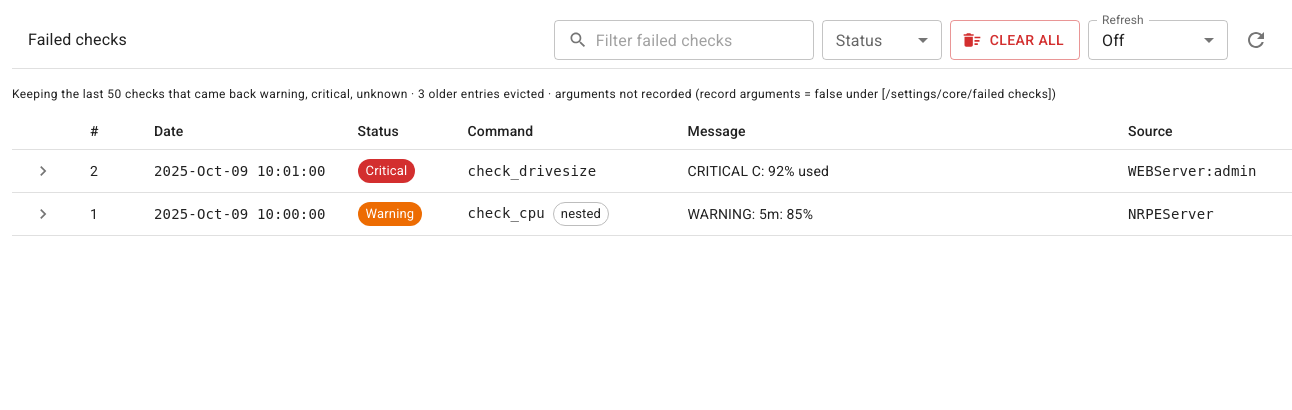
Test: FailedChecks › says when arguments were not recorded rather than showing an empty list
expect the text "check_drivesize" is shown: met, box [452,149,672,192]
expect the text "arguments not recorded" is shown: met, box [545,87,1056,101]
Click the button named "expand" in the row of "2025-Oct-09 10:01:00" at {"x": 43, "y": 171}, box [28,156,58,186]
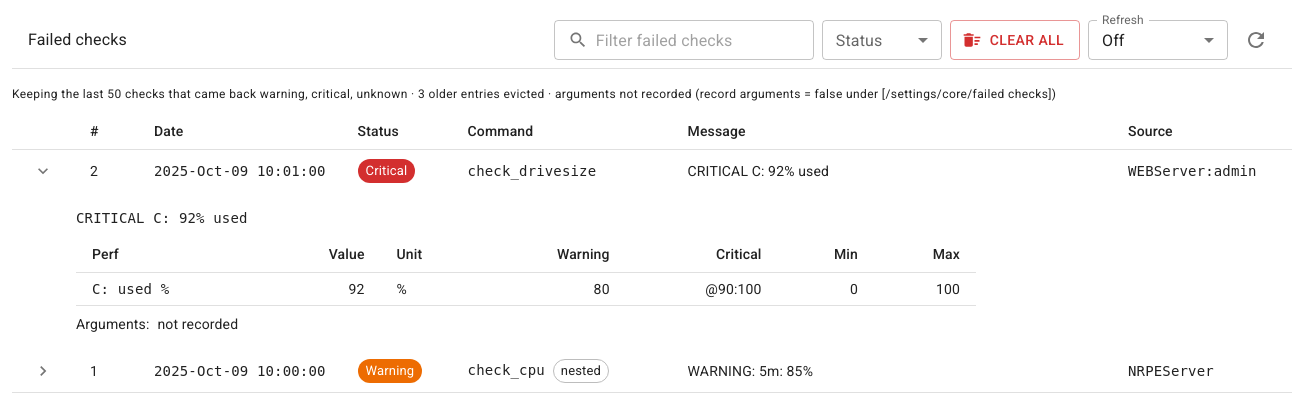
expect the text "not recorded" is shown: met, box [158,314,238,334]
